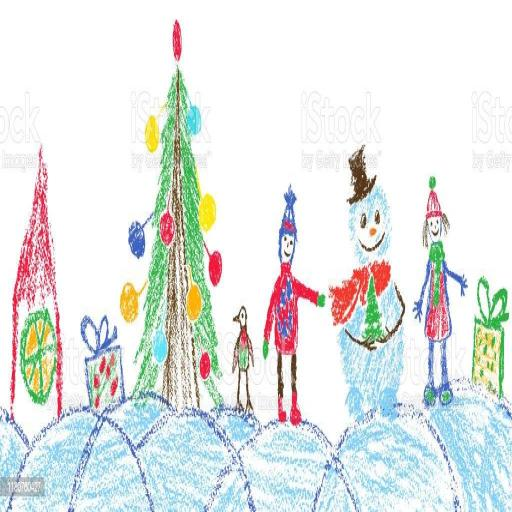person: (262, 178, 328, 427), (415, 168, 468, 418)
